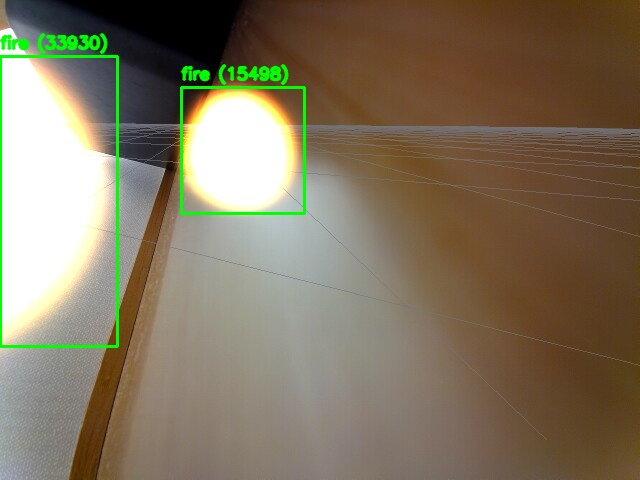fire: (0, 56, 117, 346), (181, 87, 304, 213)
